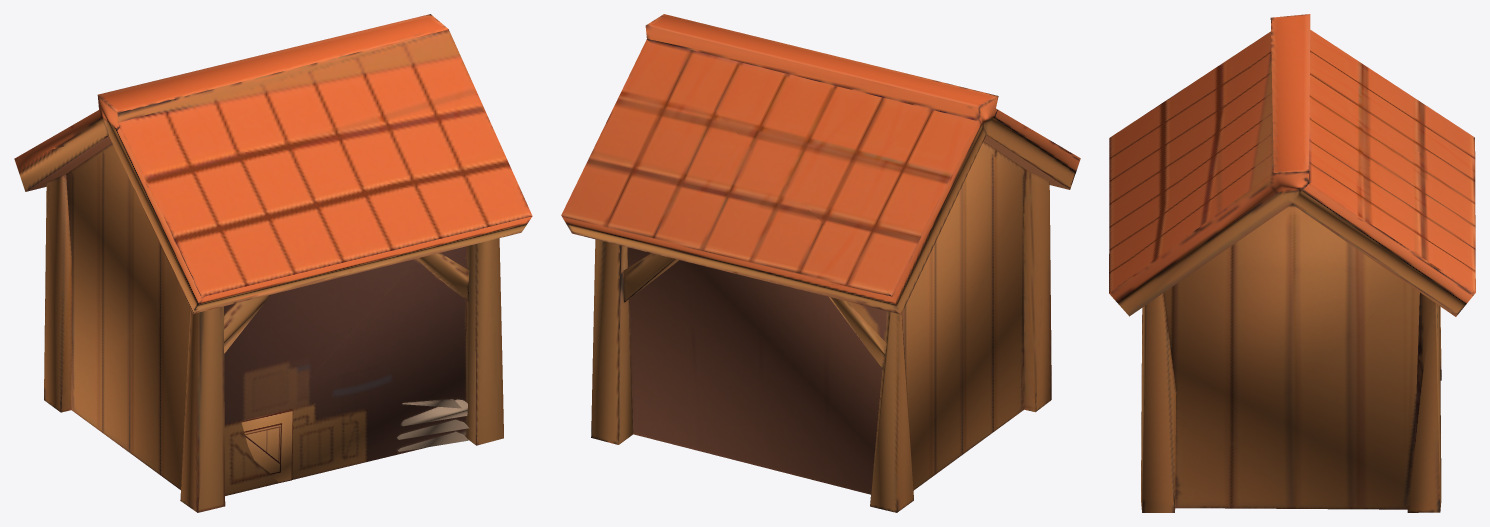
The model's file is meshy-c-550.glb.
3 views of the same model, side by side, from view 1: azimuth 30°, elevation 25°; view 2: azimuth 150°, elevation 25°; view 3: azimuth 270°, elevation 25° (orthographic). The views are drawn at different scales.
Size of the model in its own units: 0.971 by 1 by 0.9565.
1 material, 1 textured.
